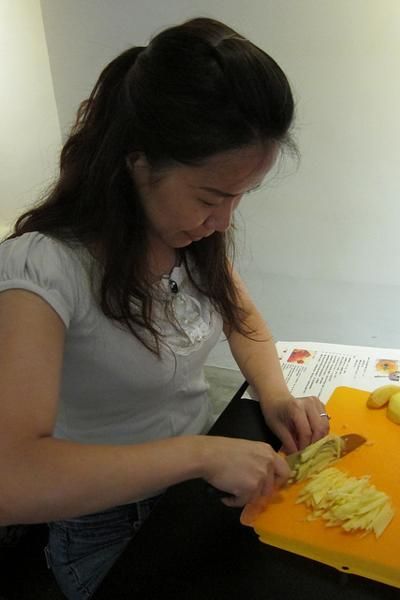person: (2, 17, 331, 600)
